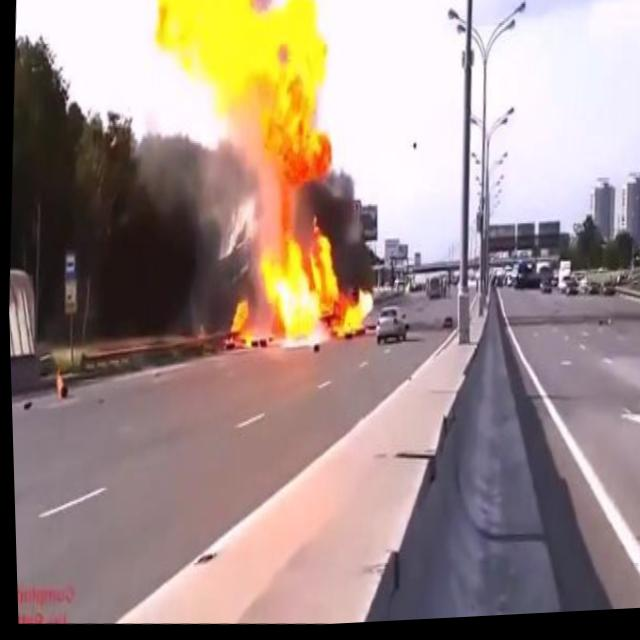fire: (141, 0, 351, 196), (219, 216, 383, 361), (51, 366, 62, 402)
